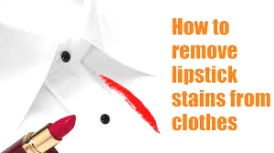lipstick: (126, 95, 163, 133), (98, 74, 132, 103)
